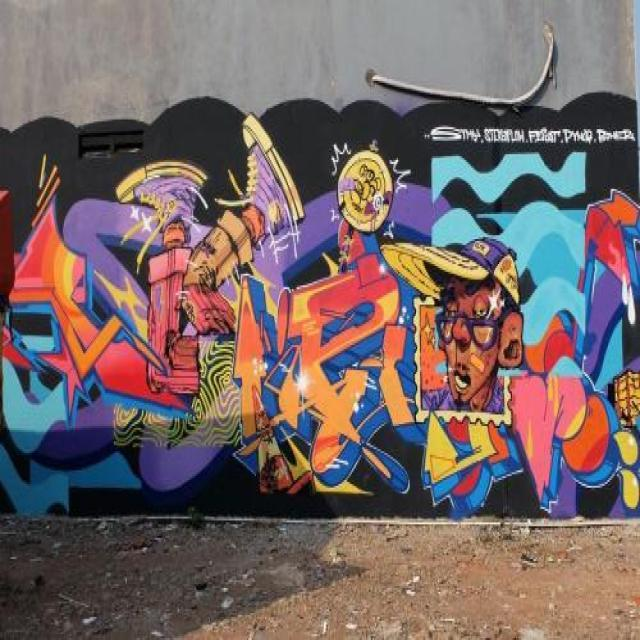-: (1, 114, 640, 522), (422, 124, 636, 148)
